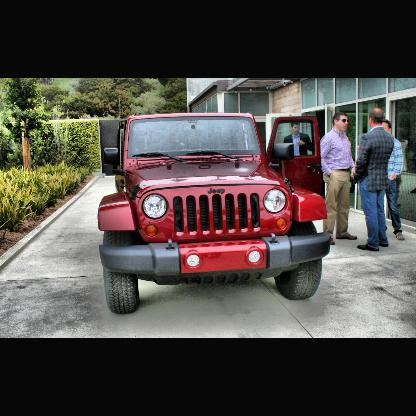Jeep Wrangler SUV 2012: (97, 111, 336, 317)
